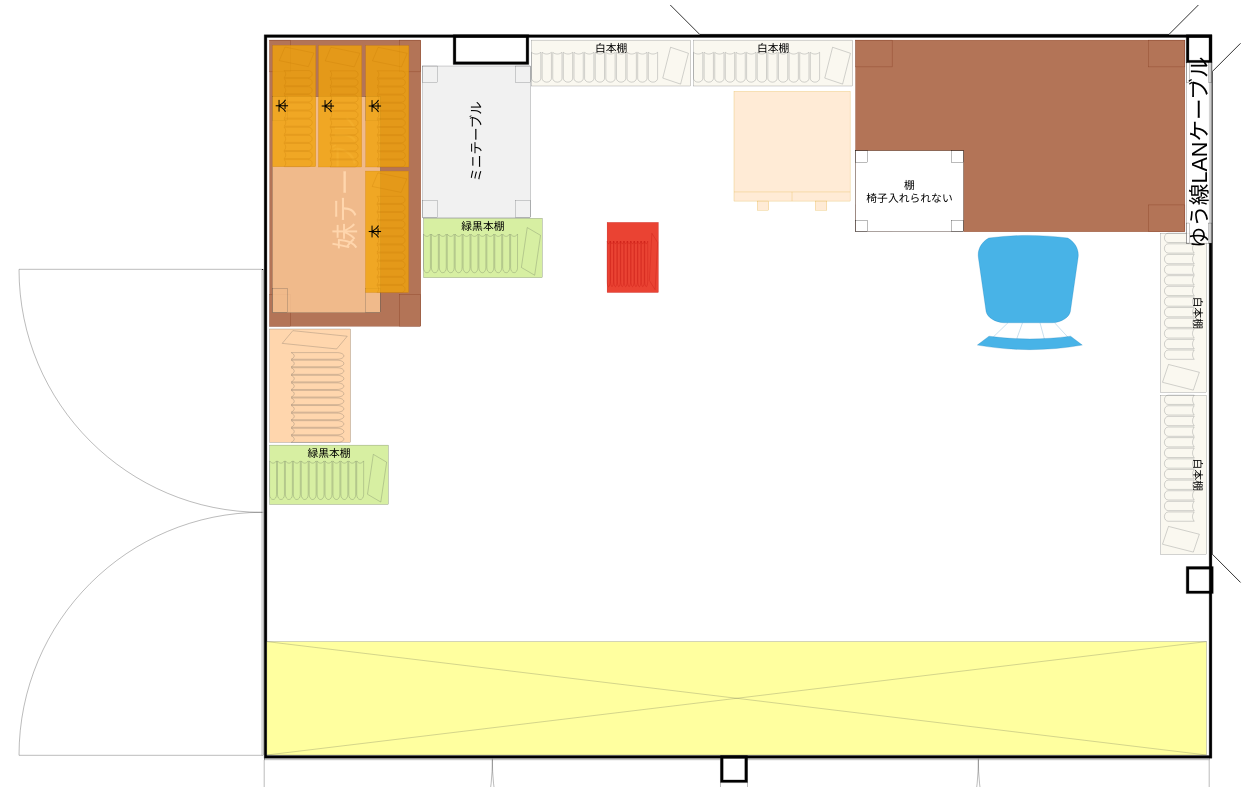
The diagram is 1246 pixels wide and 787 high, and some of its shapes have lost their labels. Each missing label, with the box of its shape:
ジャンプSQ: (607, 222, 658, 293)
大テーブル: (855, 40, 1185, 232)
引き出し: (734, 91, 850, 210)
折りたたみテーブル: (272, 97, 380, 313)
本棚: (269, 329, 351, 442)
椅子: (977, 234, 1082, 351)
通り道確保: (267, 641, 1206, 755)
